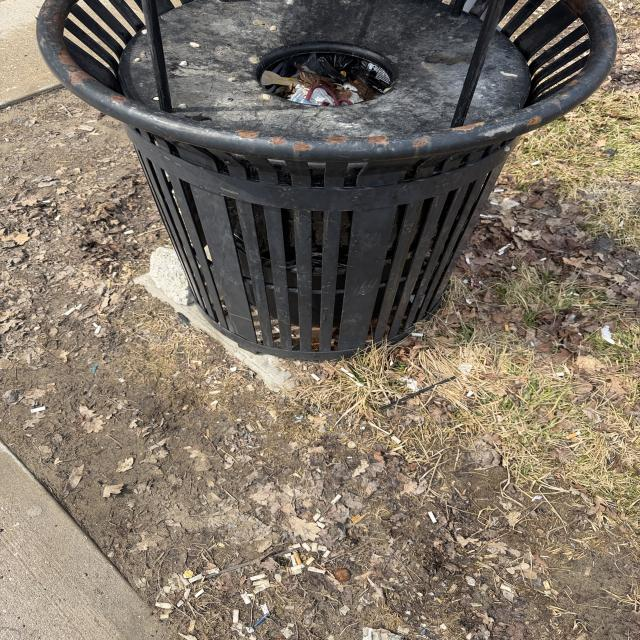Dustbin: (35, 0, 620, 358)
